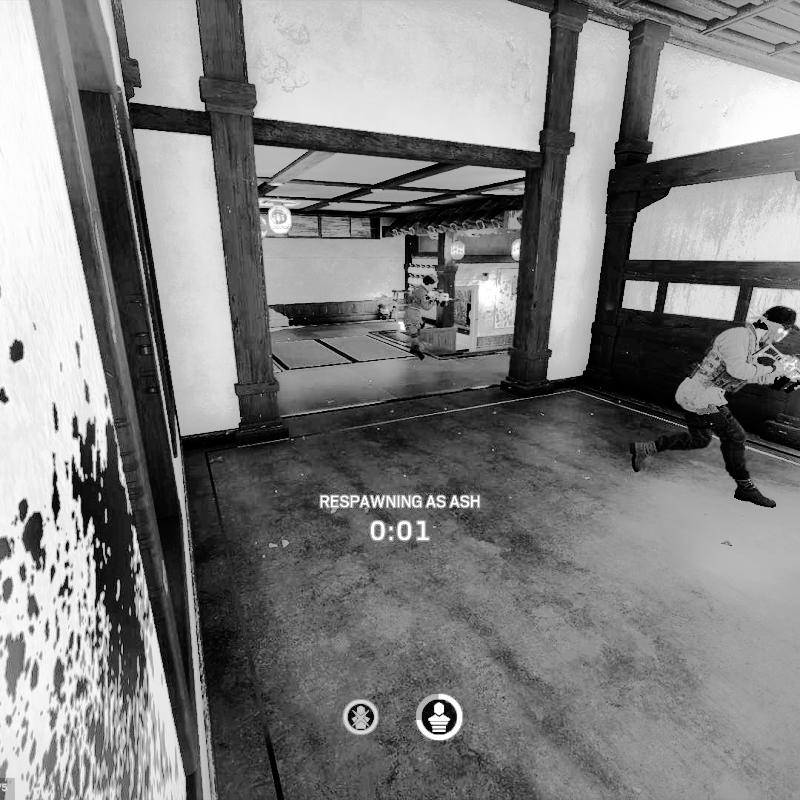Character: (623, 302, 800, 511), (401, 271, 449, 362)
Head: (756, 302, 798, 344), (421, 272, 439, 291)
